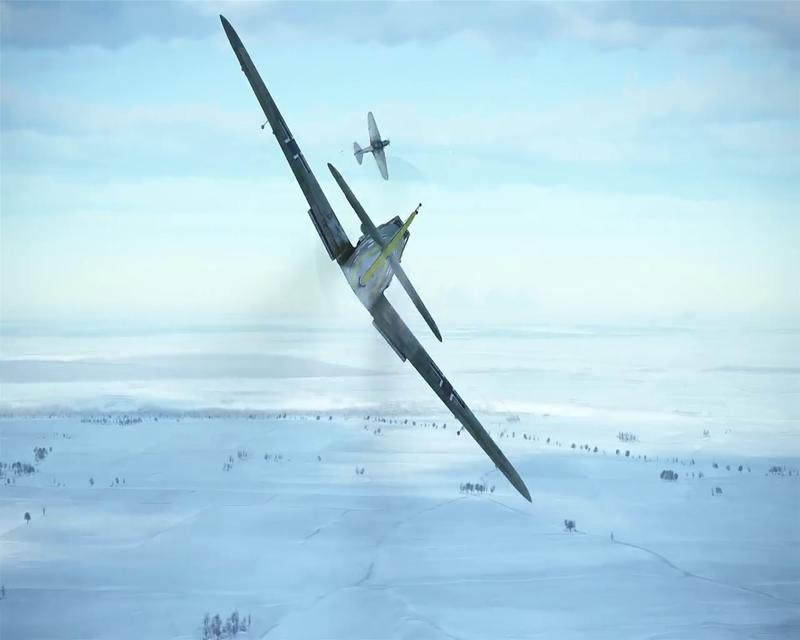UAV: (218, 12, 531, 500), (352, 111, 392, 182)
